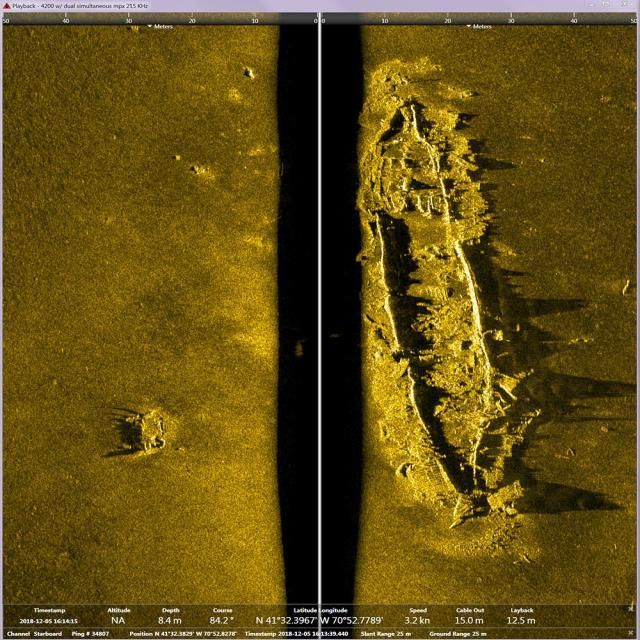shipwreck: (349, 95, 519, 523)
